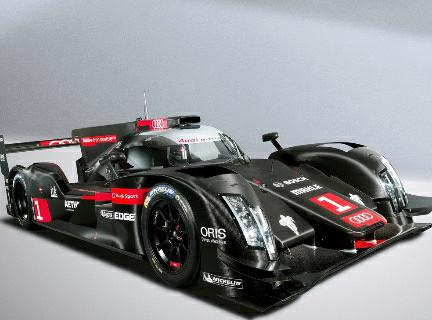奥迪-R18: (4, 110, 432, 315)
